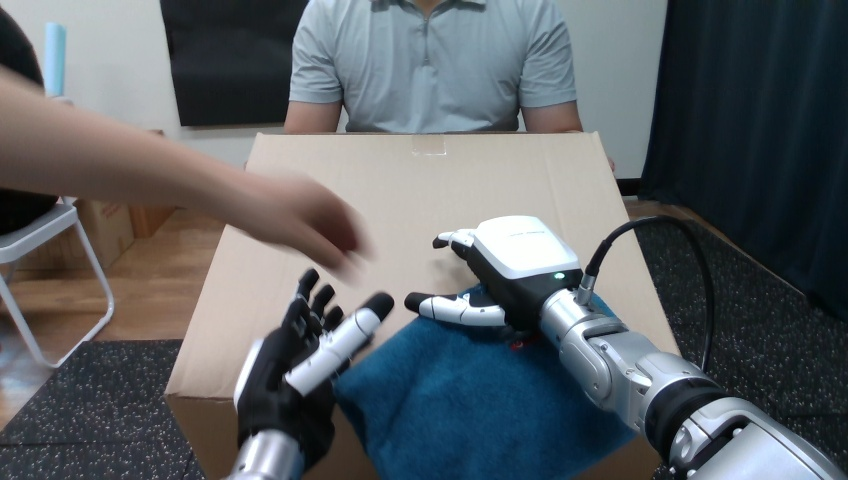left robot hand: (686, 213, 847, 473), (227, 269, 393, 479), (635, 225, 703, 362)
